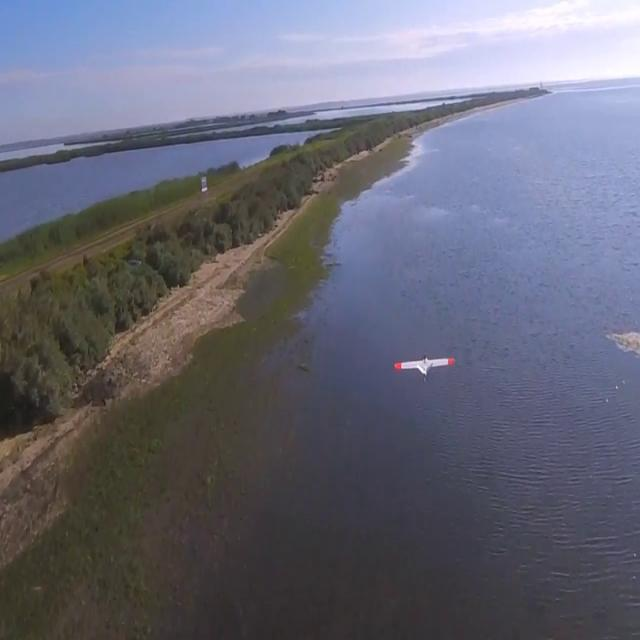iha: (396, 354, 454, 386)
